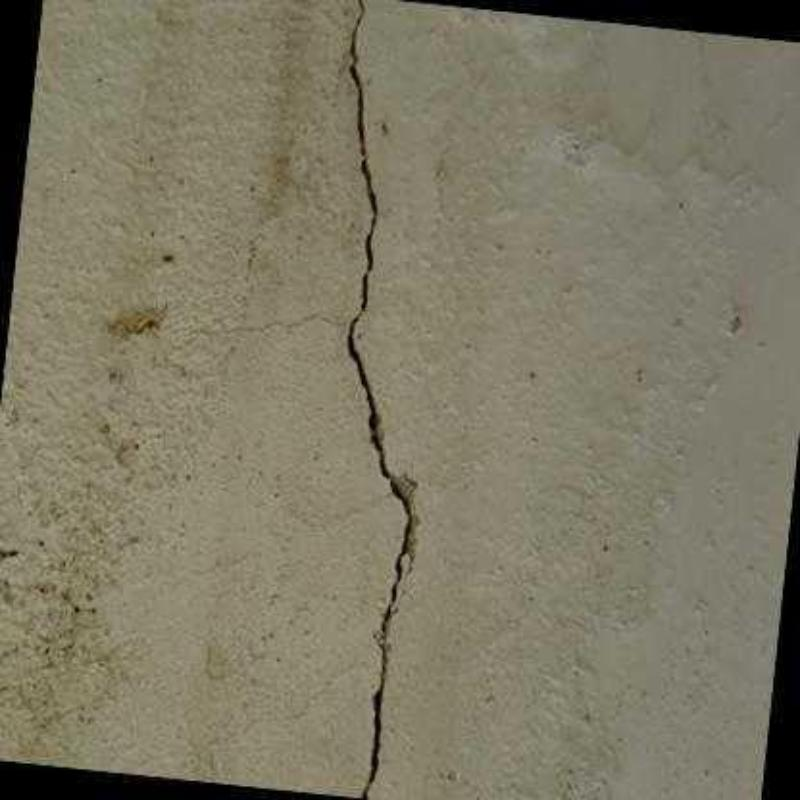pothole: (347, 3, 411, 798), (188, 313, 348, 338)
